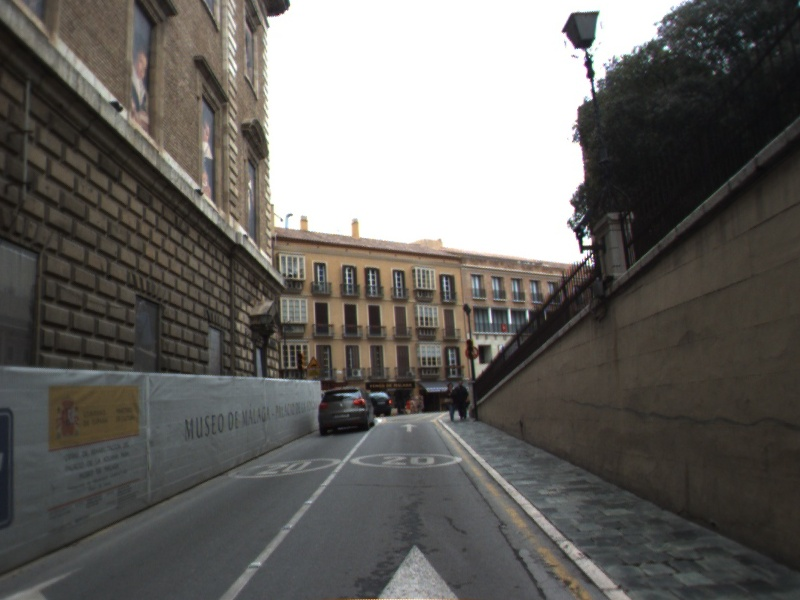STRAIGHT: (399, 422, 420, 433)
